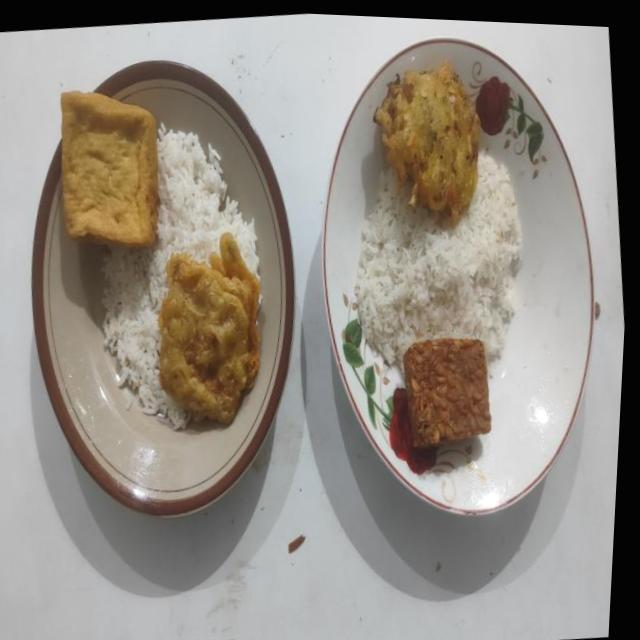nasi_putih: (102, 124, 259, 428), (354, 153, 522, 373)
tahu_goreng: (61, 90, 158, 246)
tempe_goreng: (402, 338, 490, 447)
